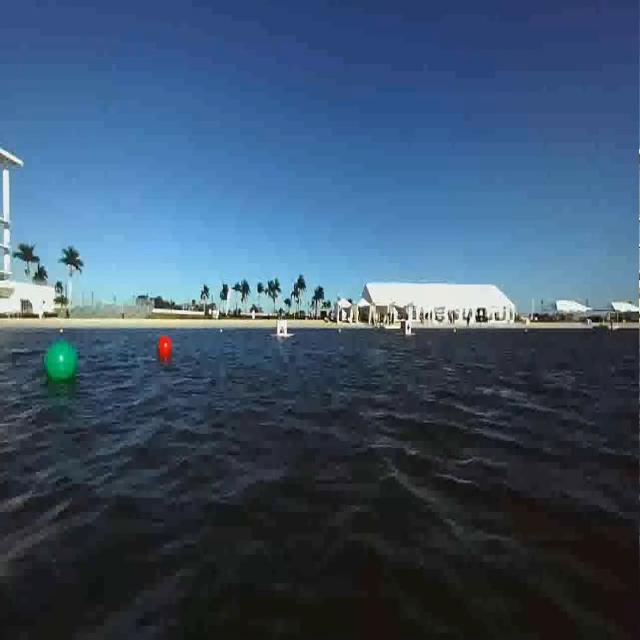green-buoy: (42, 338, 80, 385)
red-buoy: (160, 337, 173, 359)
